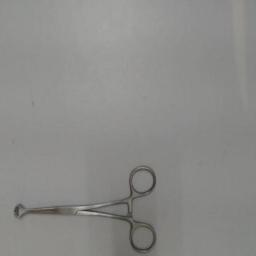Babcock Tissue Forceps: (12, 162, 160, 254)
